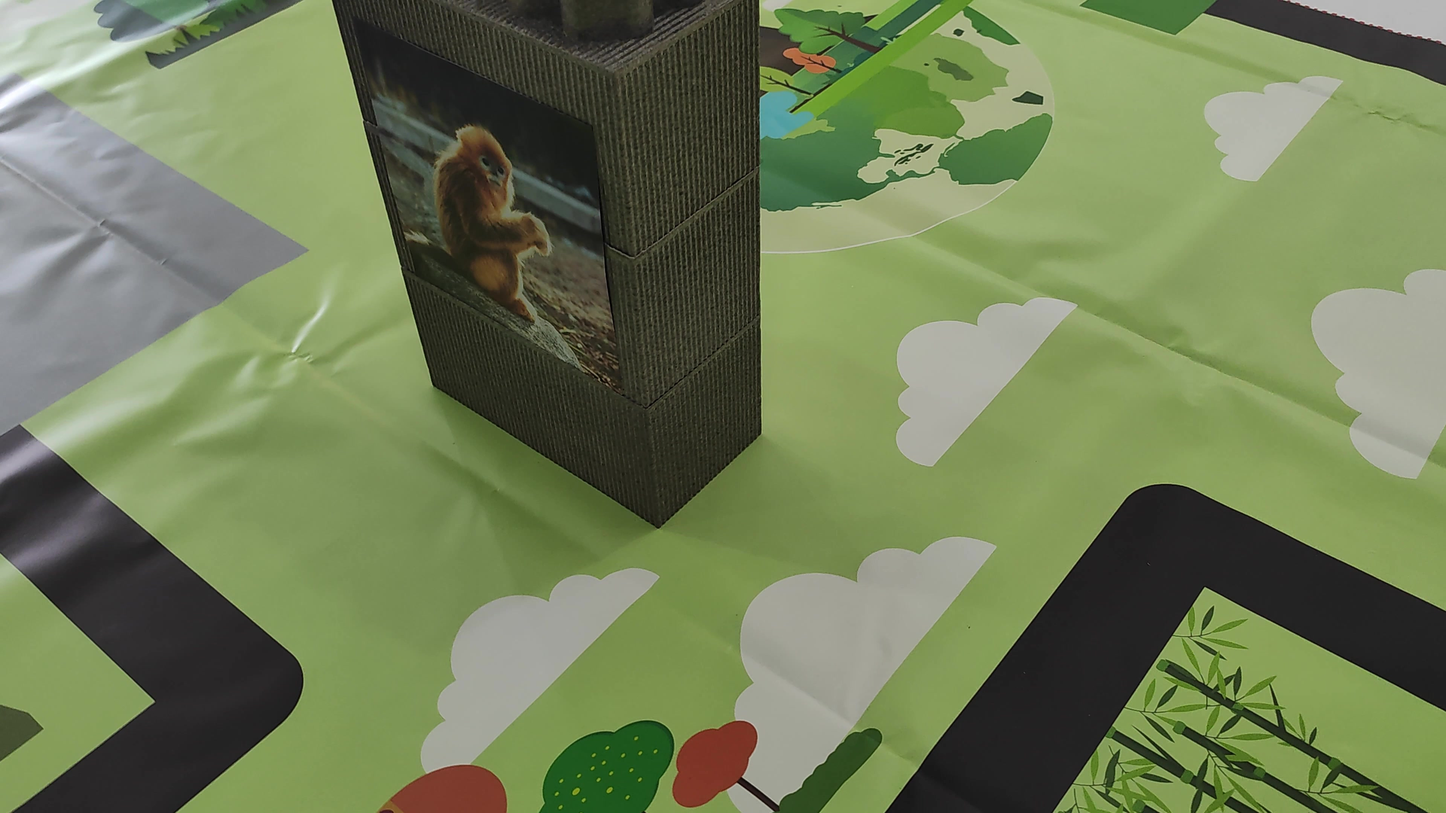monkey: (397, 94, 578, 334)
